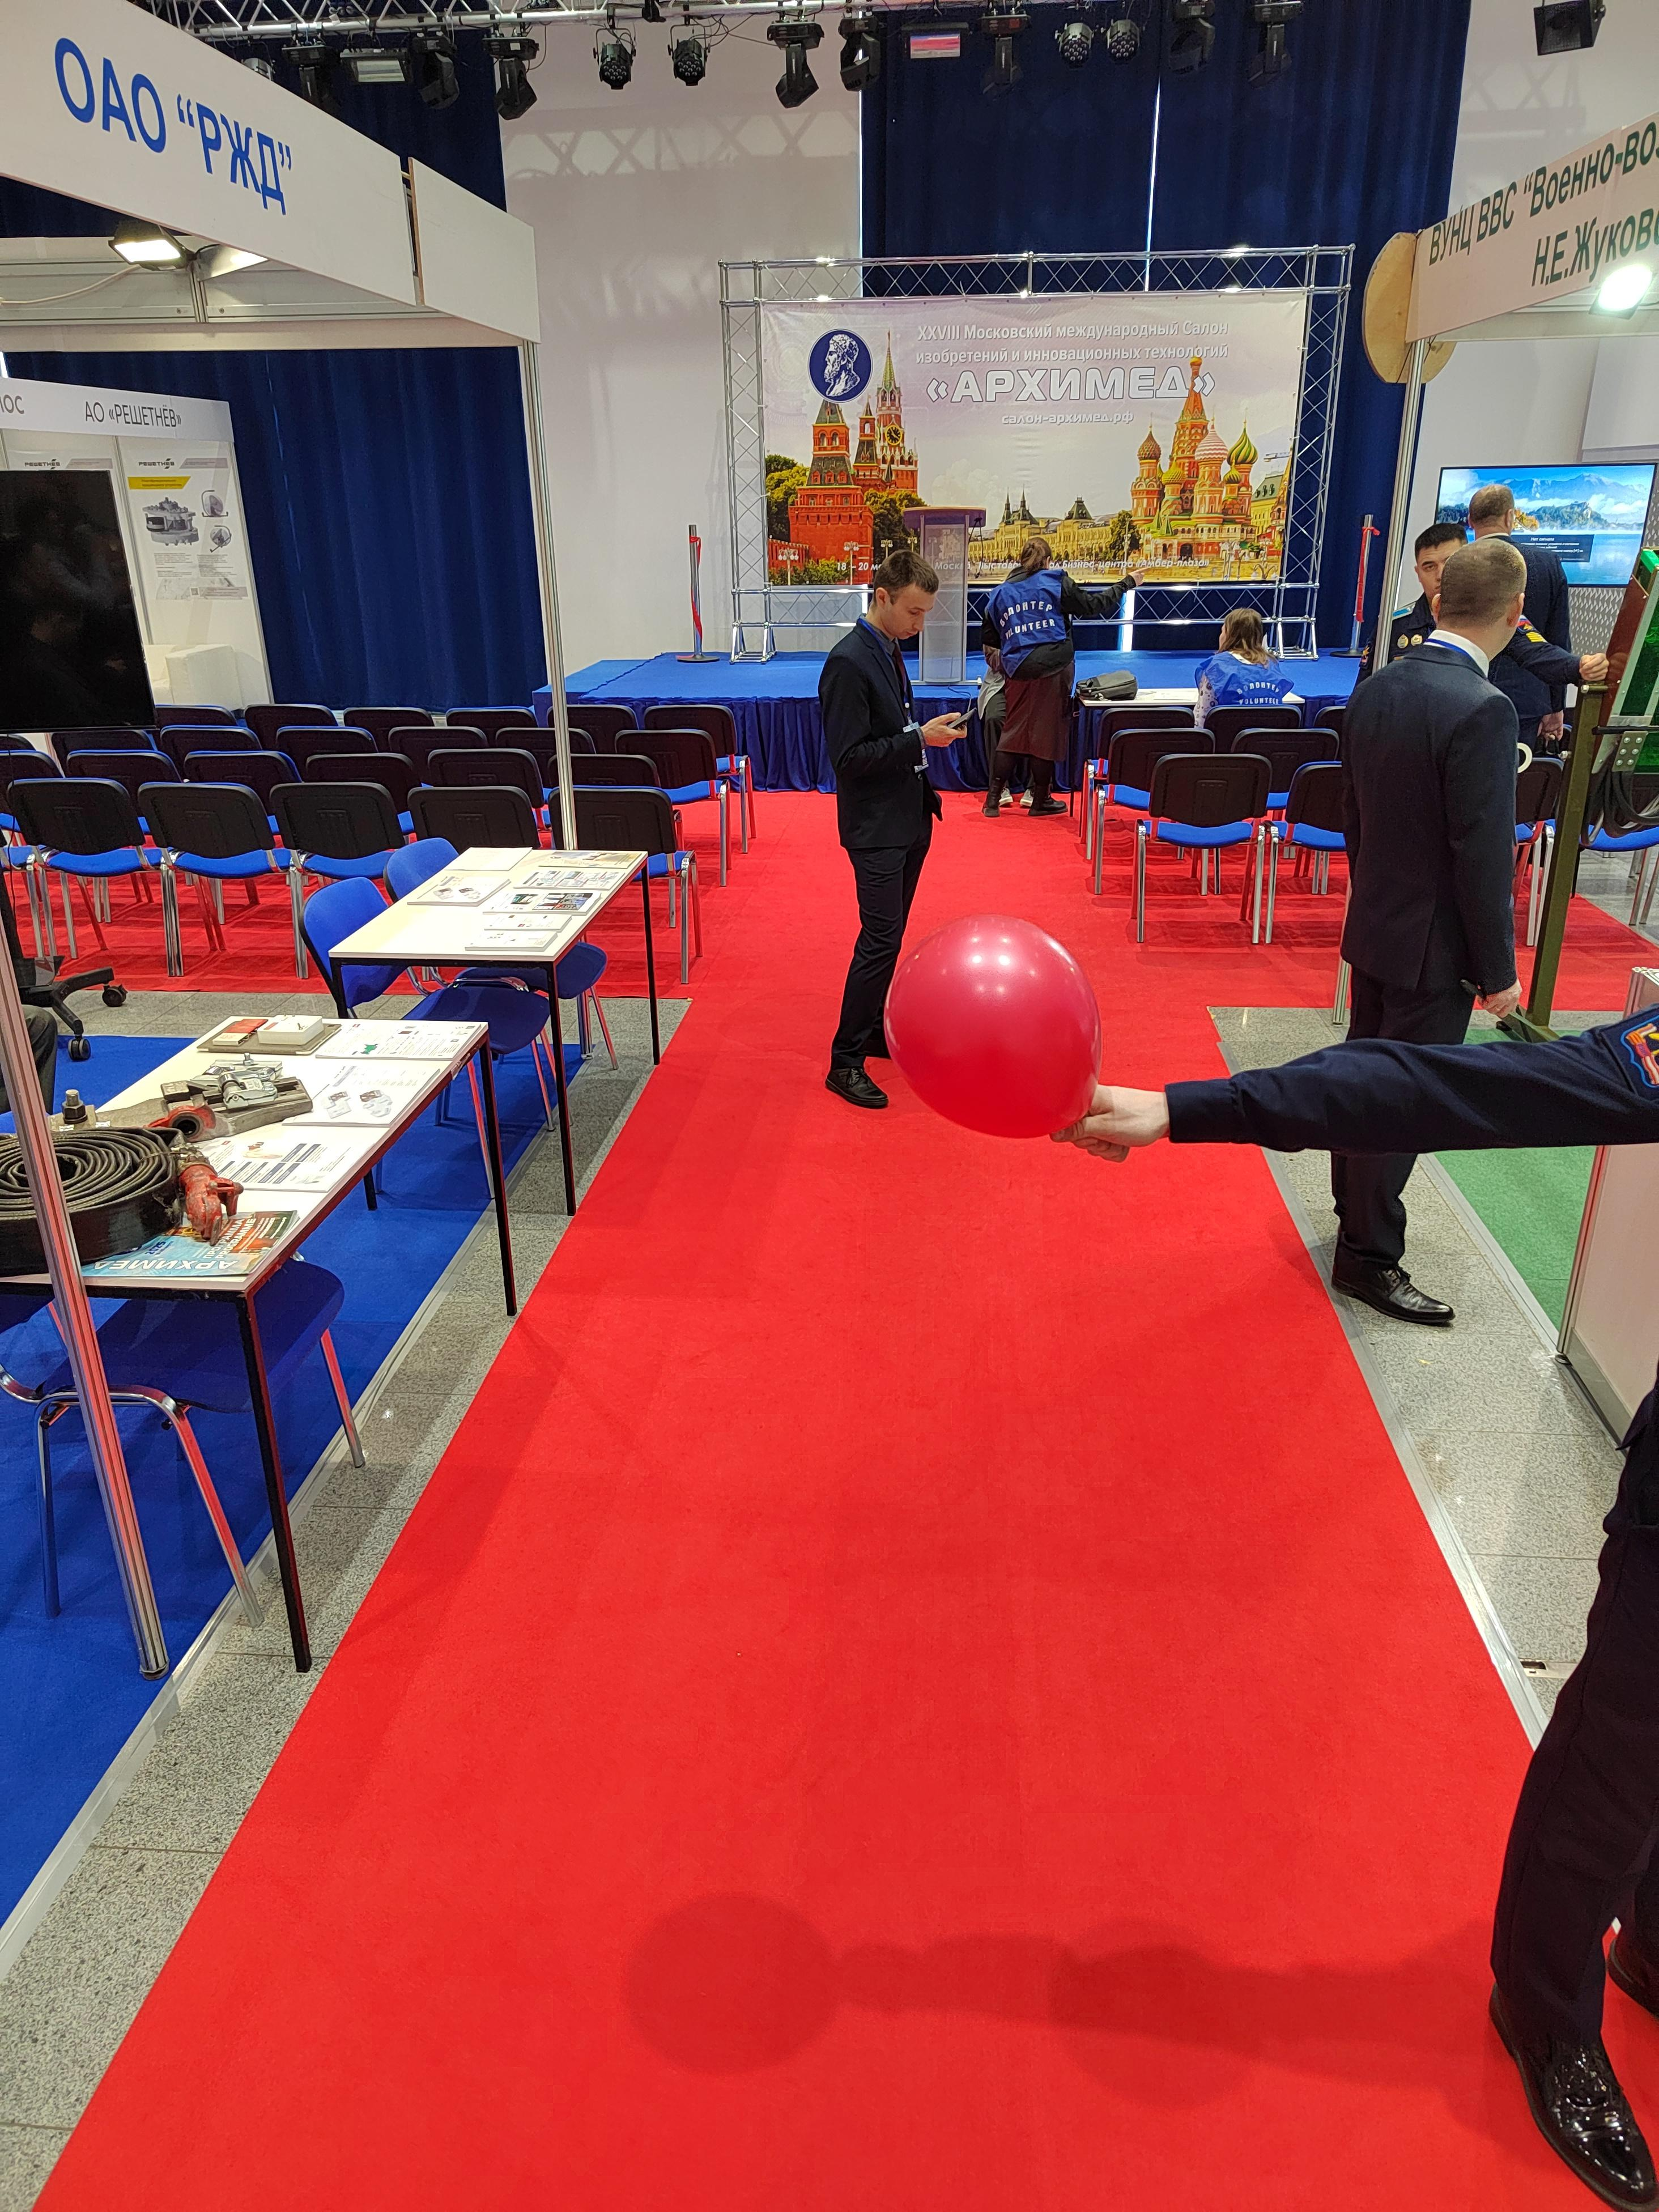red: (884, 909, 1105, 1143)
